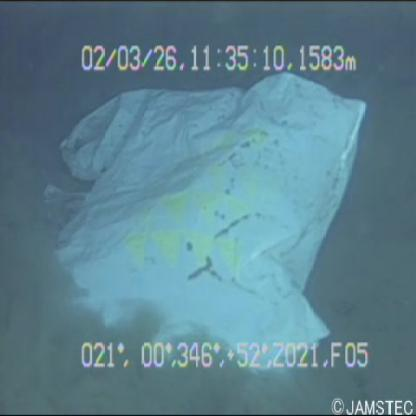Rác: (37, 68, 372, 392)
